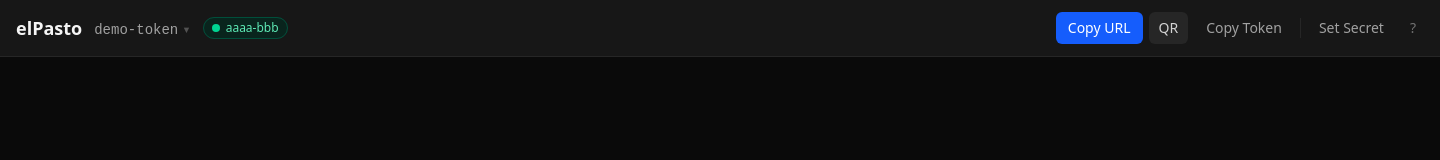
SessionHeader › shows the local peer id alongside the you label
Step 1. Click the button with aria-label "Connection status" → click(245, 28), box [203, 17, 288, 39]
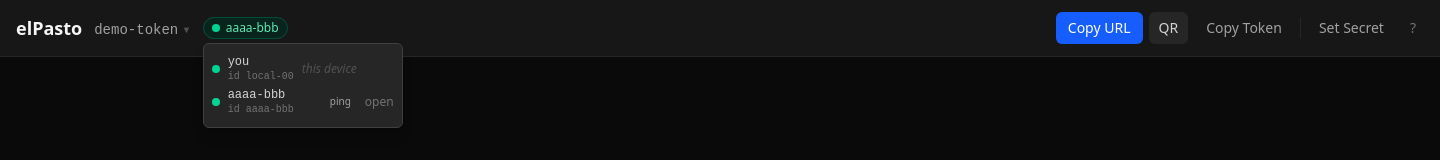
Expected: the text "you" is shown, [228, 55, 249, 69]
Expected: the text "id local-00" is shown, [228, 70, 294, 83]
